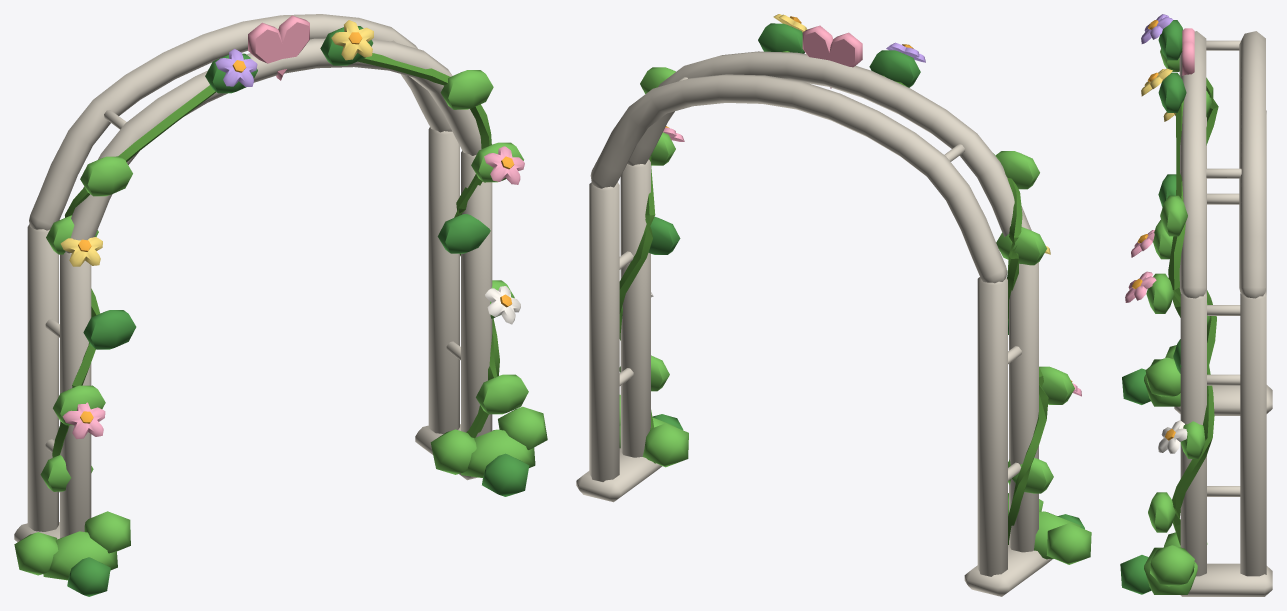
Rendered from prop_aviary_arch.glb.
The picture shows the model from 3 angles, left to right: view 1: azimuth 30°, elevation 25°; view 2: azimuth 150°, elevation 25°; view 3: azimuth 270°, elevation 25°; orthographic projection. The views are drawn at different scales.
Parts seen in each view (by area): view 1: prop_aviary_arch; view 2: prop_aviary_arch; view 3: prop_aviary_arch.
Part boxes in pixels (left/top/right/bottom): prop_aviary_arch: left=14, top=14, right=547, bottom=596; prop_aviary_arch: left=576, top=14, right=1091, bottom=596; prop_aviary_arch: left=1120, top=14, right=1272, bottom=596.
Bounding box in the file's own units: 3.16 × 2.95 × 0.8682.
